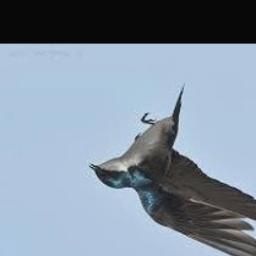Swallow: (91, 84, 256, 256)
